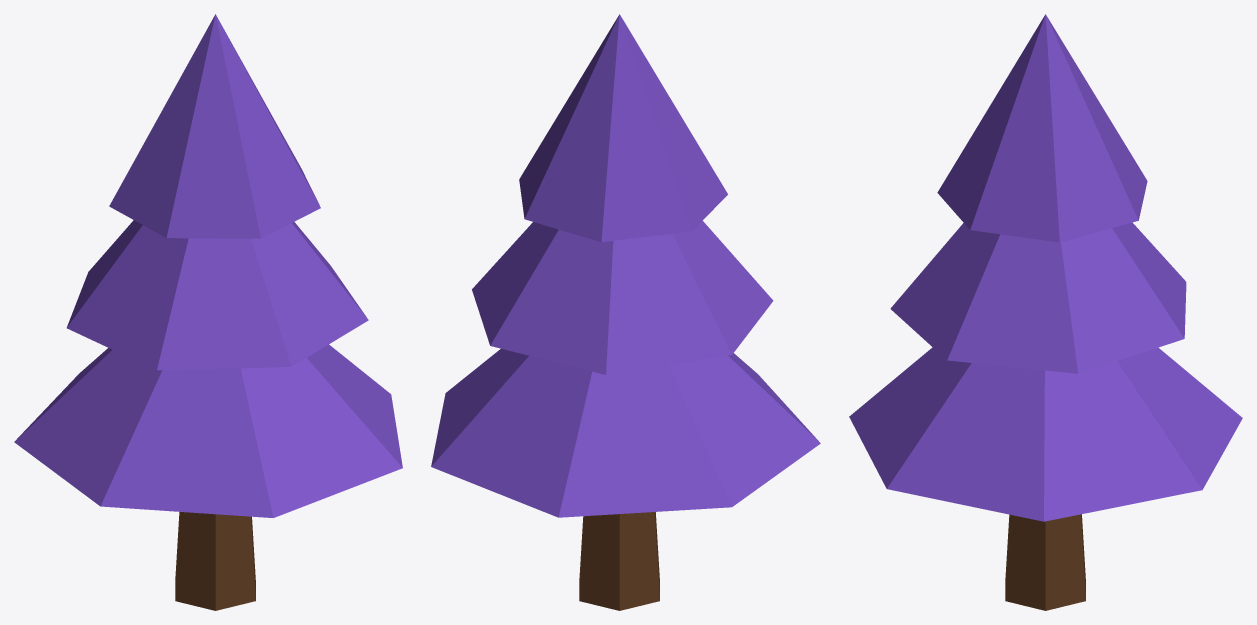
The model's file is tree_magic.glb.
3 renders of one model, left to right at view 1: azimuth 30°, elevation 25°; view 2: azimuth 150°, elevation 25°; view 3: azimuth 270°, elevation 25°, orthographic.
Visible parts, largest first — view 1: tree_magic; view 2: tree_magic; view 3: tree_magic.
Part boxes in pixels (box(x1,y1,x2,y2)): tree_magic: box(14, 14, 402, 610); tree_magic: box(431, 14, 820, 610); tree_magic: box(849, 14, 1242, 610).
Bounding box in the file's own units: 2.48 × 4.1 × 2.53.
